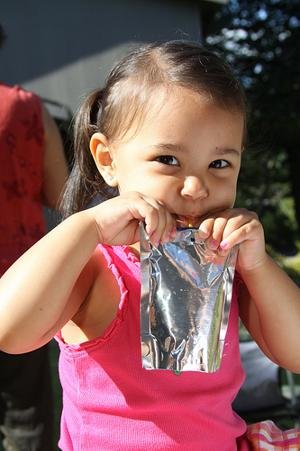person: (2, 38, 299, 450)
